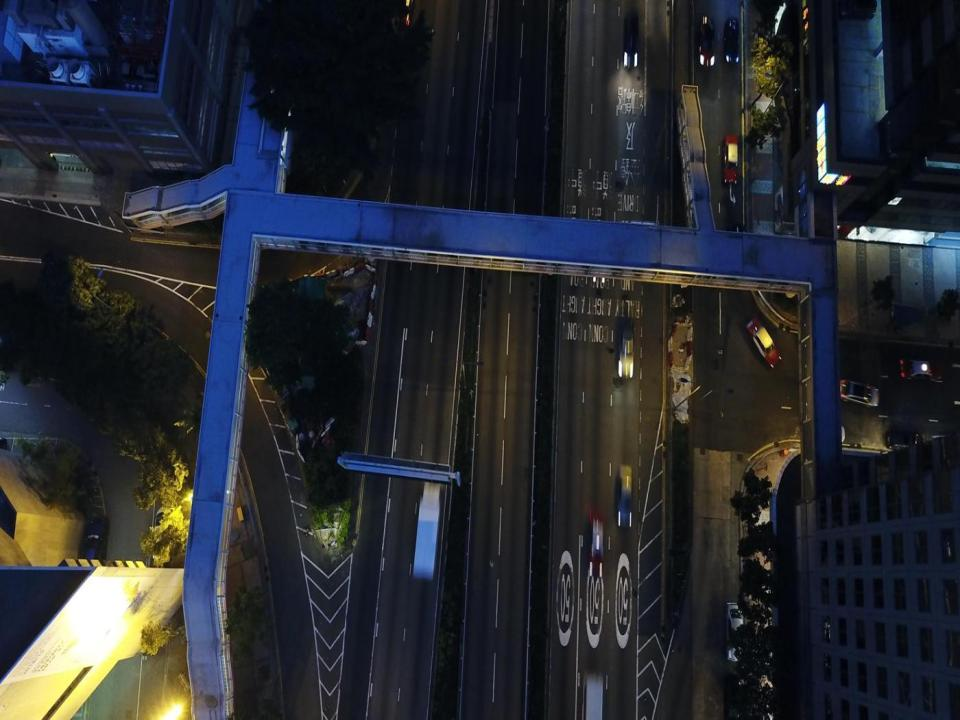car: (748, 316, 782, 368), (614, 462, 634, 530), (896, 356, 944, 384), (587, 511, 605, 578), (617, 312, 634, 378), (838, 380, 878, 408), (697, 11, 716, 67), (727, 600, 743, 664), (583, 674, 604, 719), (623, 8, 639, 66), (722, 13, 741, 60), (724, 132, 737, 184)
truck: (411, 469, 441, 581)
